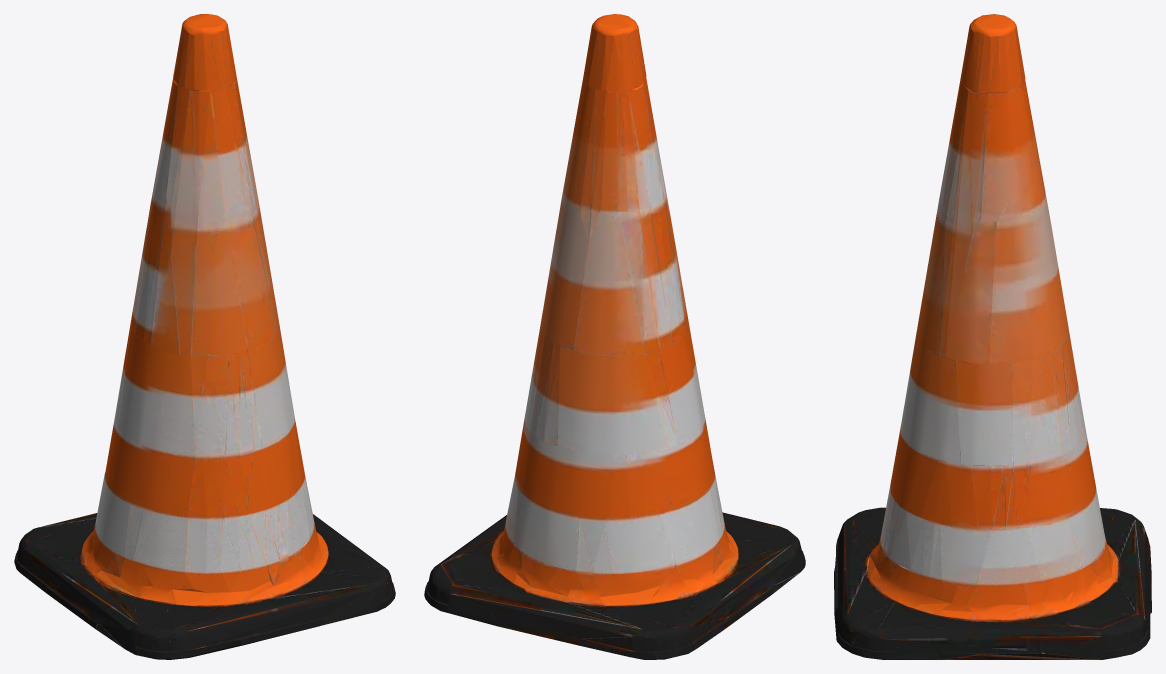
3 views of the same model, side by side, from view 1: azimuth 30°, elevation 25°; view 2: azimuth 150°, elevation 25°; view 3: azimuth 270°, elevation 25° (orthographic). The views are drawn at different scales.
Bounding box in the file's own units: 0.9546 × 1.9 × 0.9568.
Materials: 1 (1 with a texture image).
